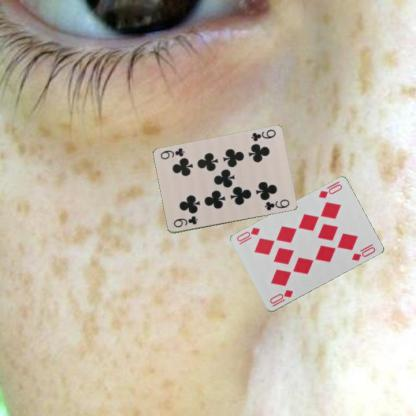10d: (267, 287, 295, 308), (316, 181, 343, 200)
9c: (248, 127, 277, 143), (171, 213, 199, 229)
